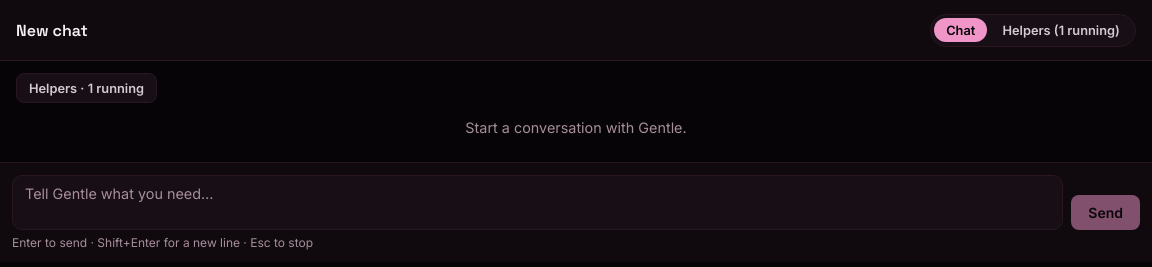
Test: ConversationContainer › switches tabs from the header, and Back to chat returns to the chat pane
Expected: the button "Helpers · 1 running" is shown, [16,73,157,103]
Click the tab "Helpers (1 running)" at (1061, 30), box [990,18,1132,42]
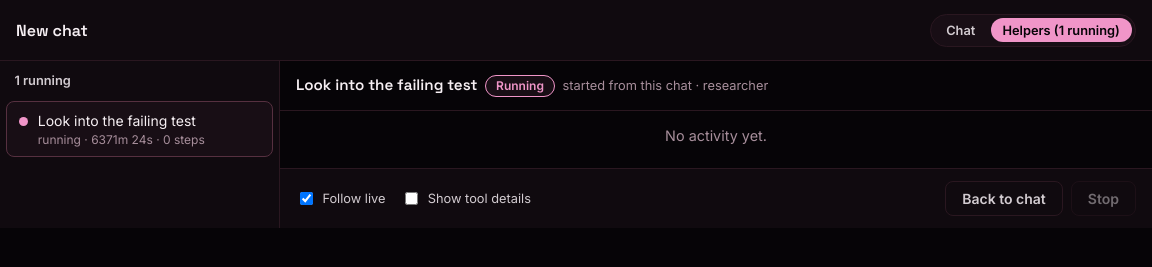
Now the heading "Look into the failing test" is shown, box [296,75,478,94]
Click the button "Back to chat" at (1004, 199), box [945,181,1063,216]
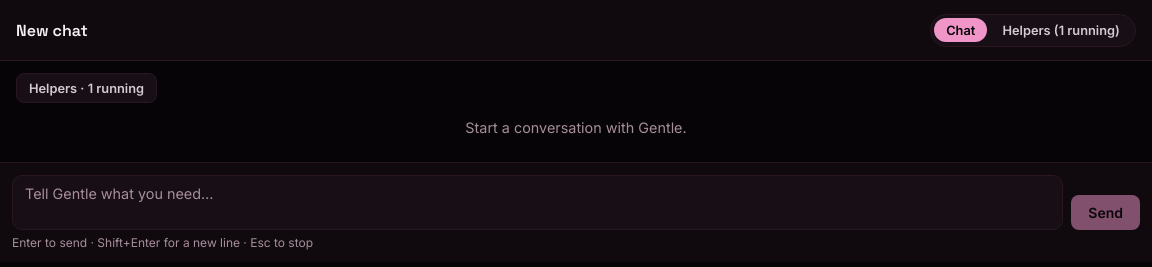
Now the text box with placeholder "Tell Gentle what you need…" is shown, box [12,174,1063,230]
